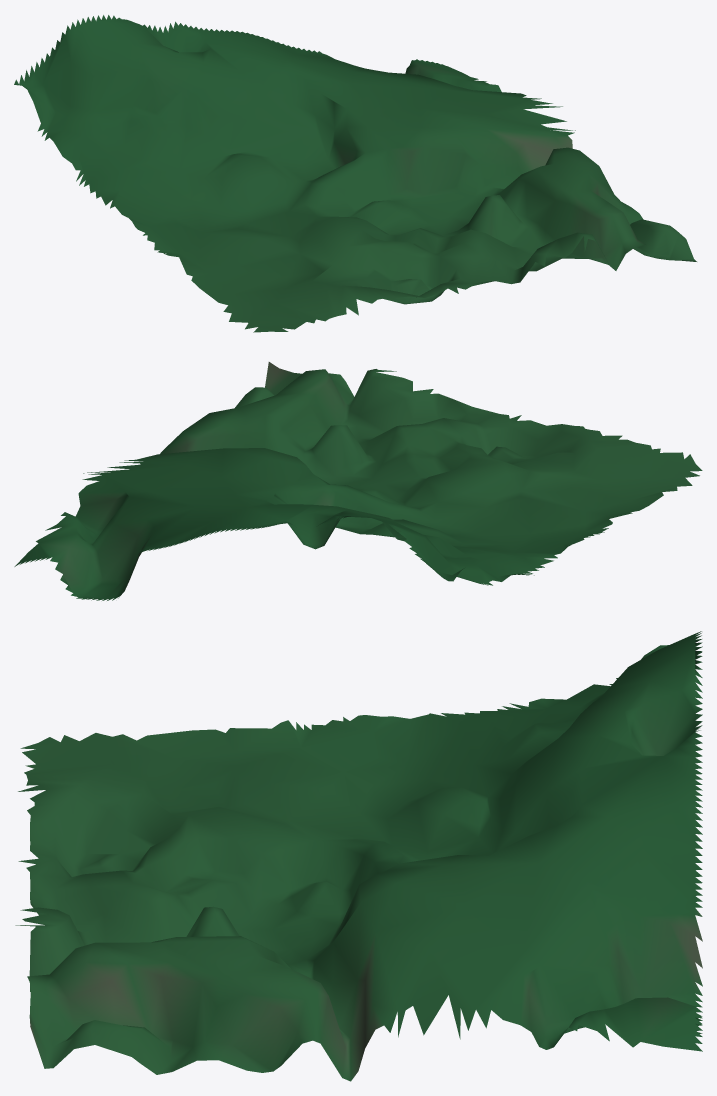
Rendered from payo_land_x0_y5_lod2.glb.
3 views of the same model, one above another, from view 1: azimuth 30°, elevation 25°; view 2: azimuth 150°, elevation 25°; view 3: azimuth 270°, elevation 25° (orthographic). The views are drawn at different scales.
Visible parts, largest first — view 1: payo_land_x0_y5; view 2: payo_land_x0_y5; view 3: payo_land_x0_y5.
Part boxes in pixels (box(x1,y1,x2,y2)): payo_land_x0_y5: box(14, 15, 696, 332); payo_land_x0_y5: box(14, 362, 702, 600); payo_land_x0_y5: box(15, 631, 702, 1081).
Bounding box in the file's own units: 277 × 89.58 × 264.
